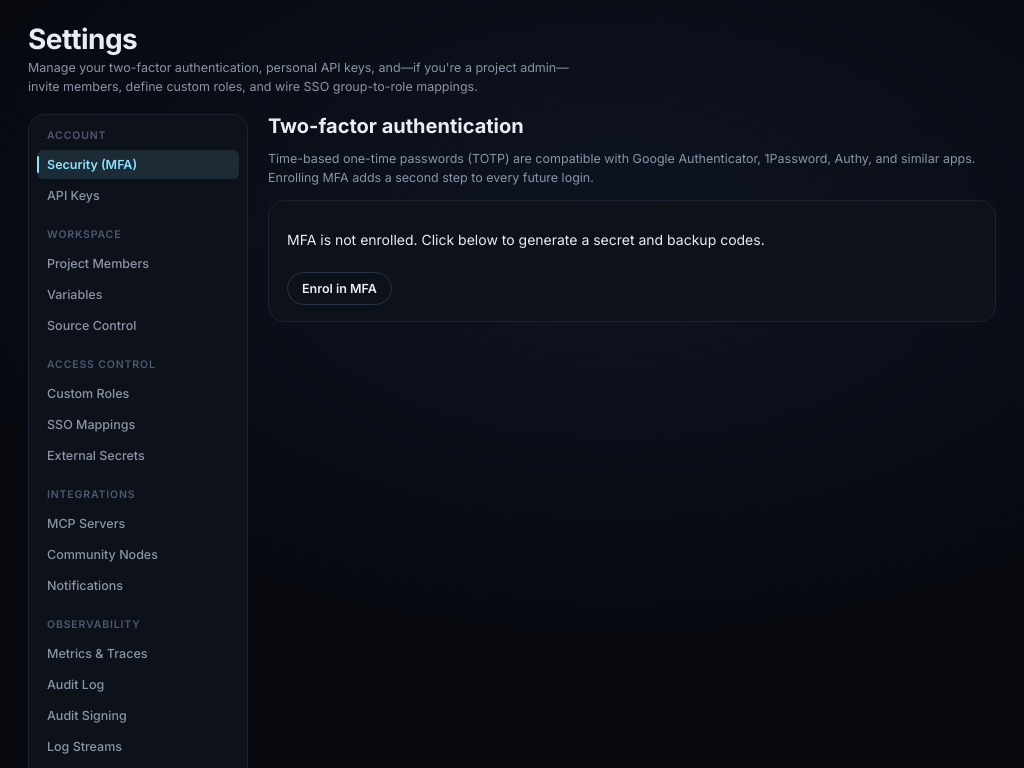
Settings: audit signing keys › is an admin-only Settings tab
Click the tab "Audit Signing": click(138, 716) x1=37 y1=701 x2=239 y2=730
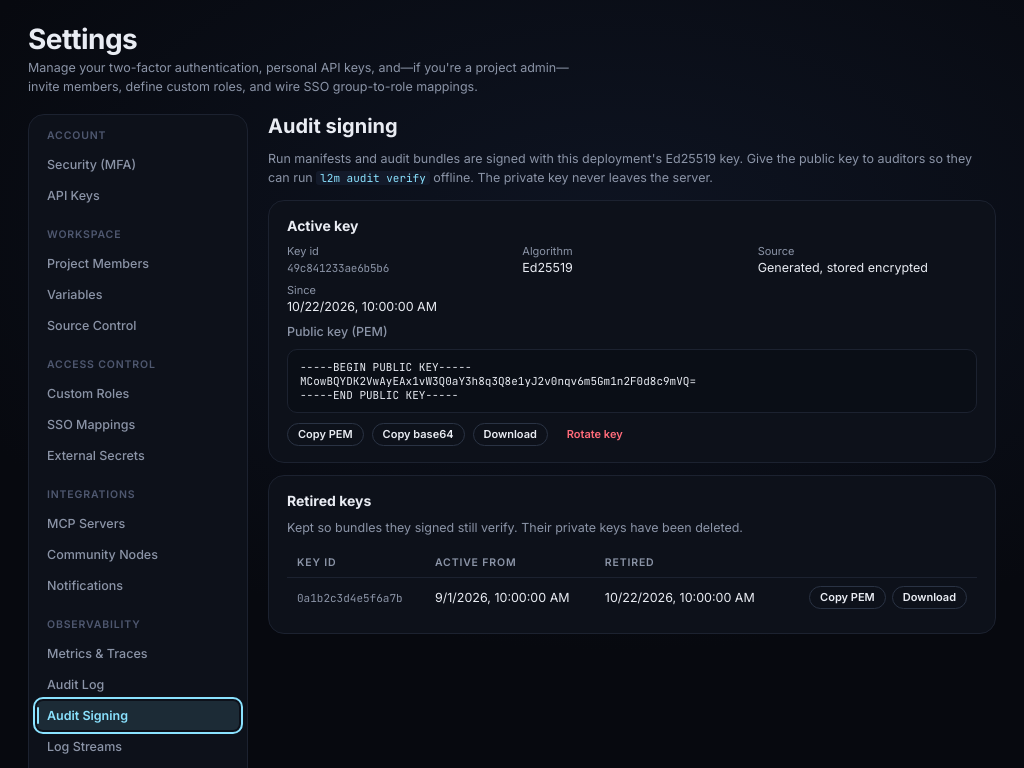
Expected: the text "49c841233ae6b5b6" is shown, x1=287 y1=260 x2=389 y2=274
